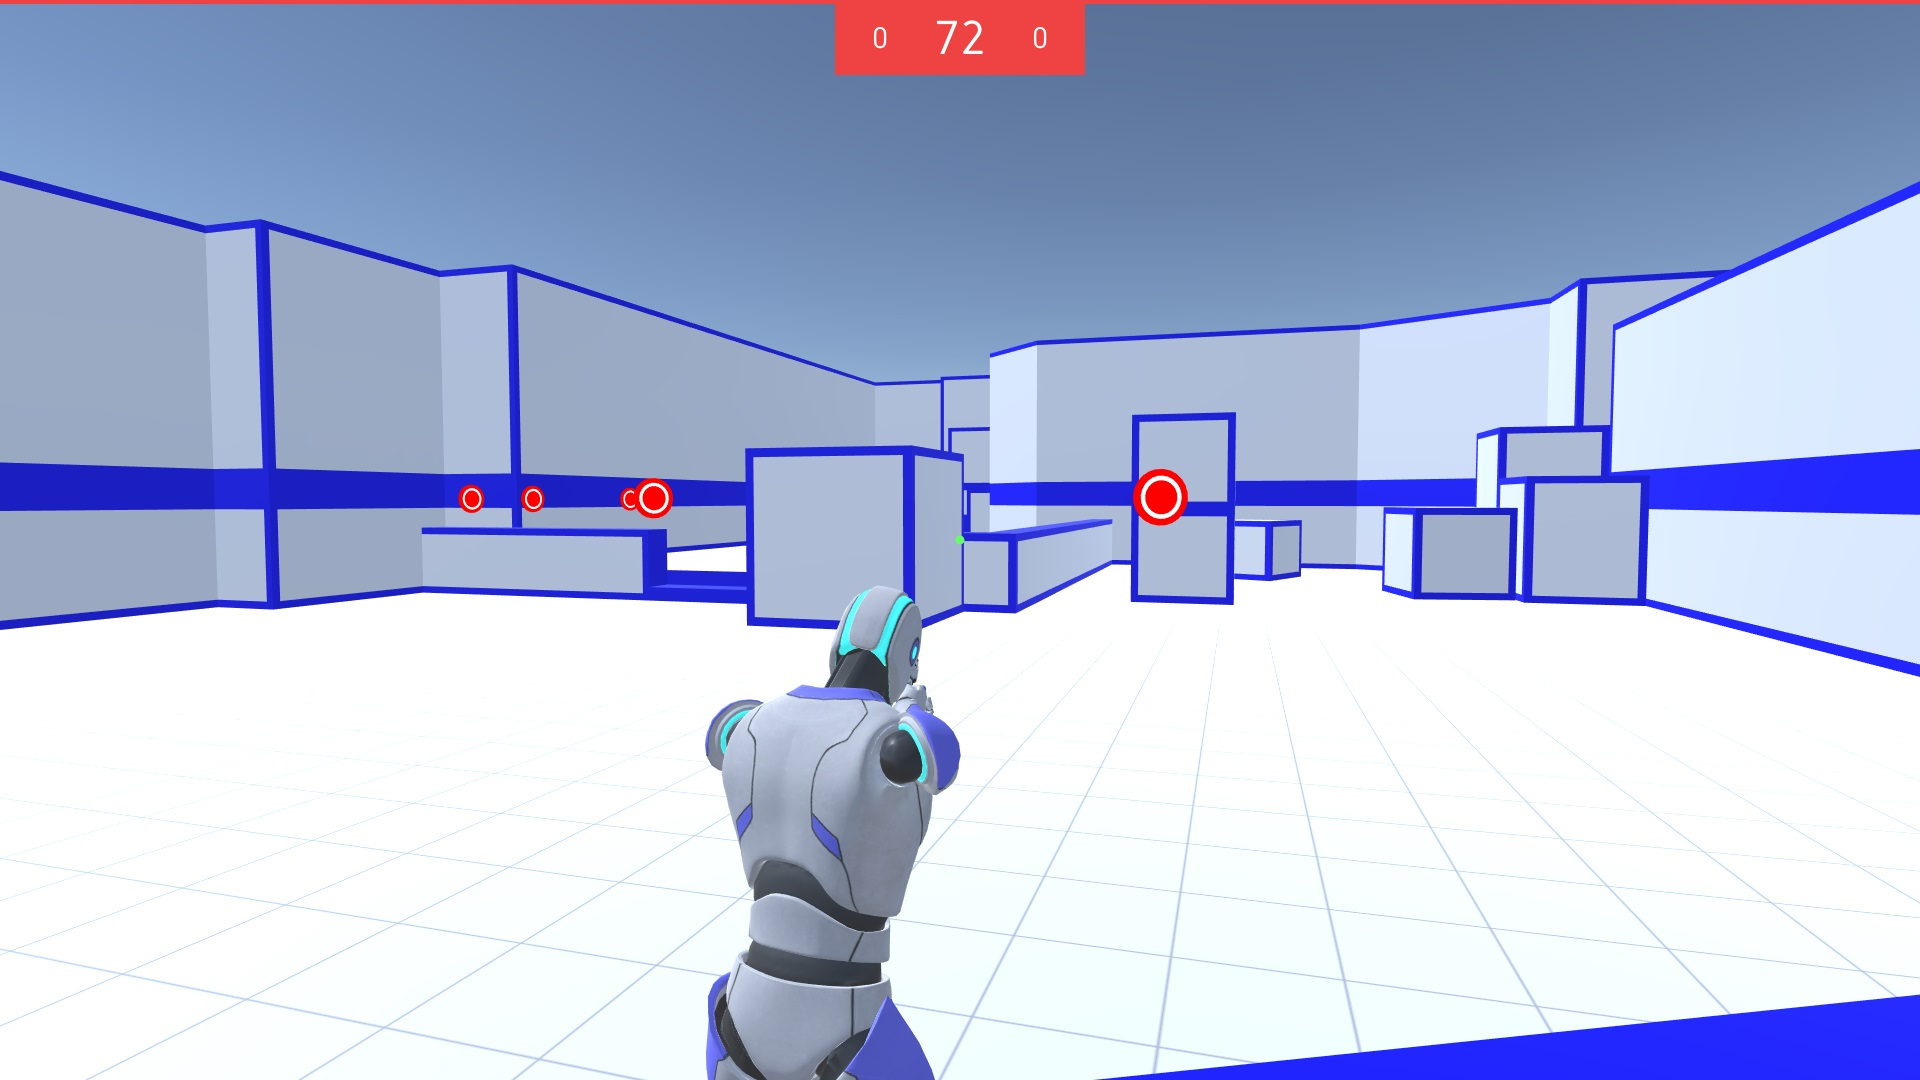Target: (1131, 468, 1188, 527), (636, 477, 673, 520), (458, 483, 487, 516), (520, 484, 545, 512), (618, 487, 642, 512)
